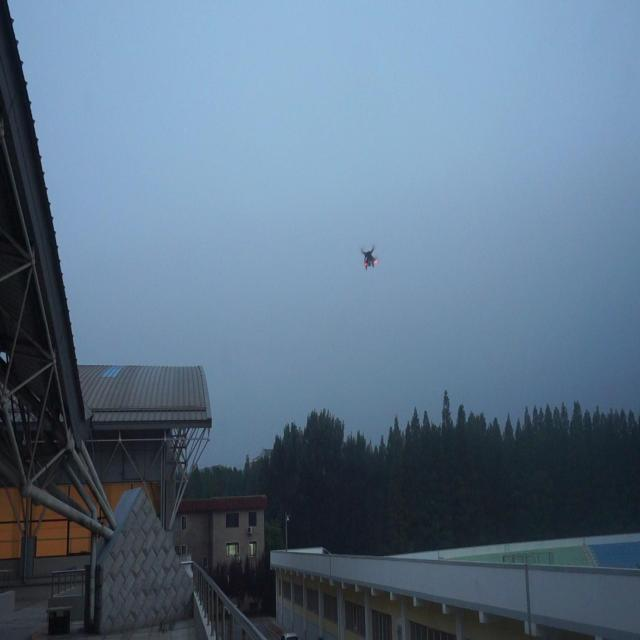drone: (358, 242, 379, 272)
